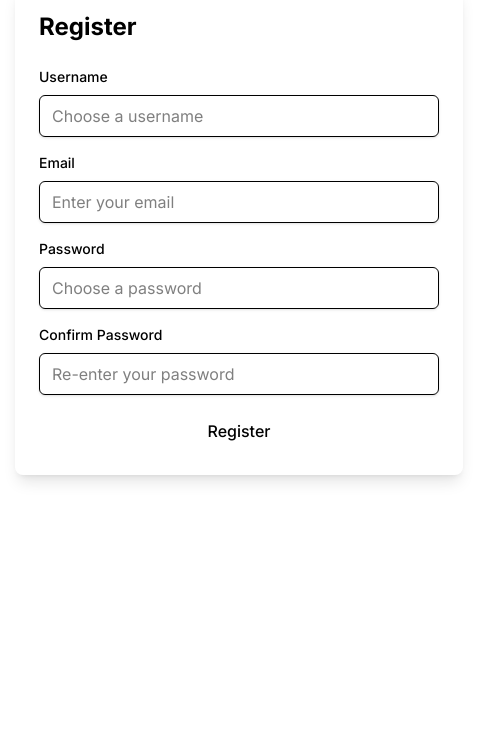
Scenario: RegisterForm › Error Handling › re-enables submit button after error
The image size is (479, 747).
Type "testuser" into the field labelled "Username" at point(239, 116), box [39,95,439,137]
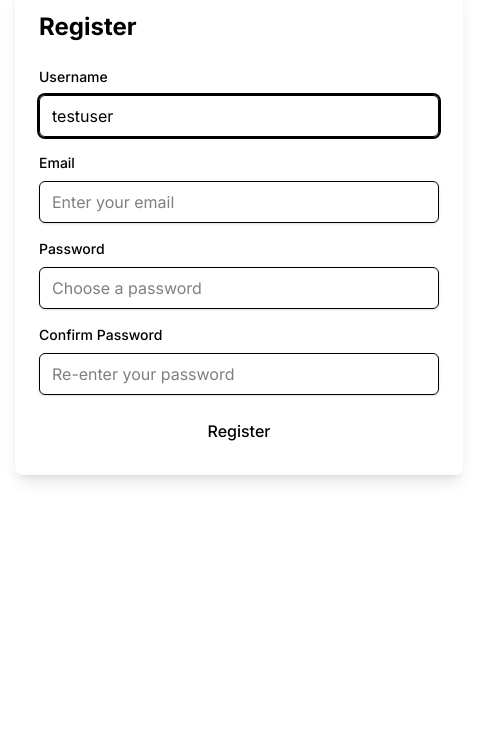
Type "test@example.com" into the field labelled "Email" at point(239, 202), box [39,181,439,223]
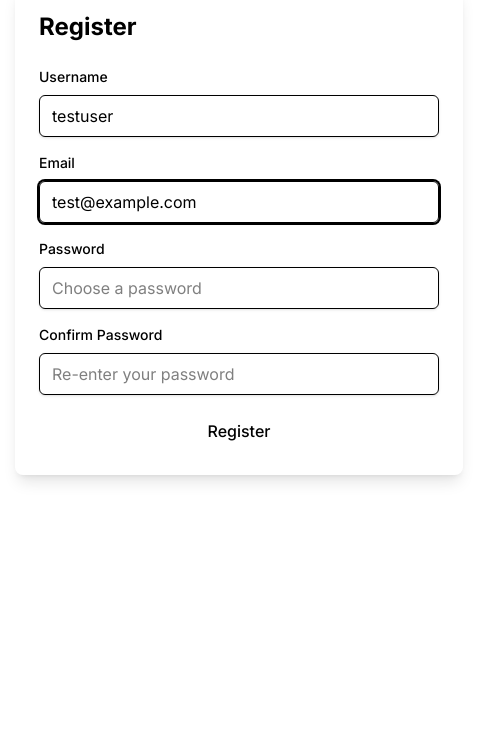
Type "password123" into the password field labelled "Password" at point(239, 288), box [39,267,439,309]
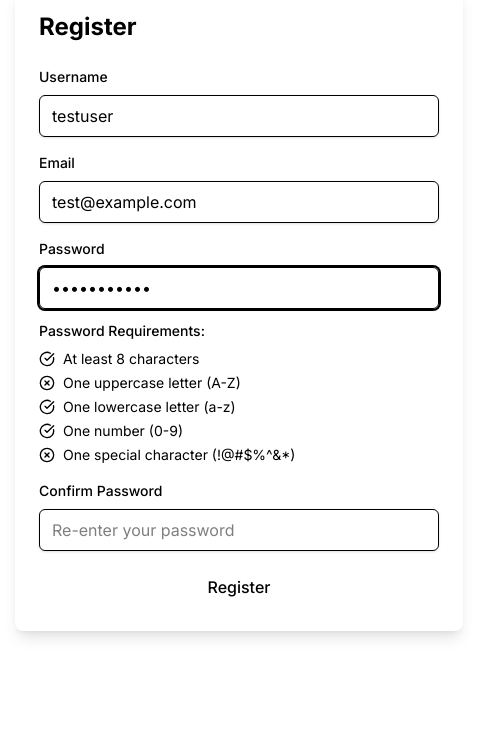
Type "password123" into the password field labelled "Confirm Password" at point(239, 530), box [39,509,439,551]
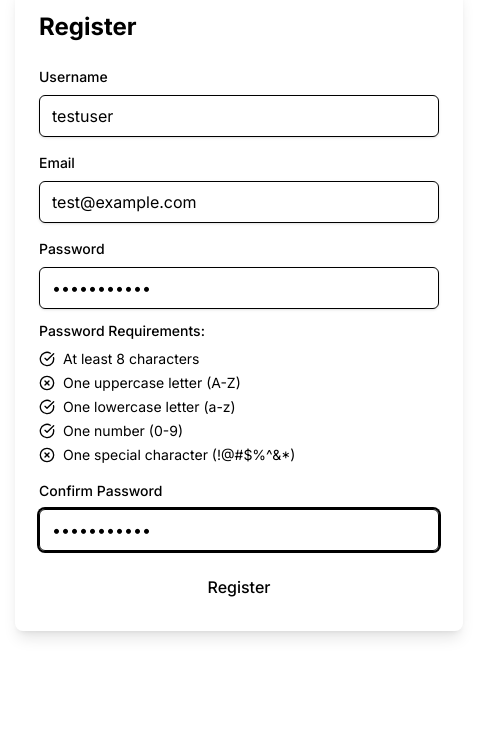
Click the button "Register" at point(239, 587), box [39,567,439,607]
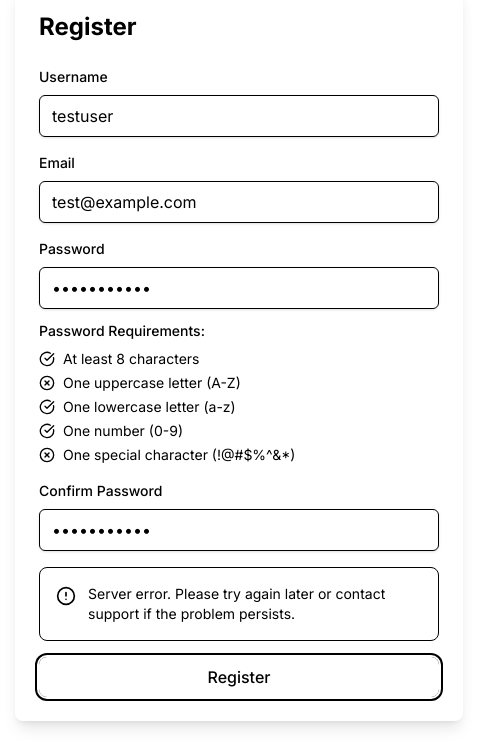
expect the text "Server error" is shown: met, box [88,585,385,622]
